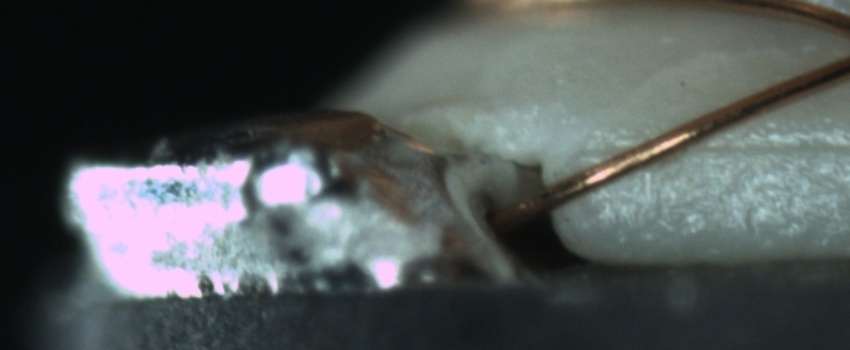DL: (617, 114, 848, 182)
